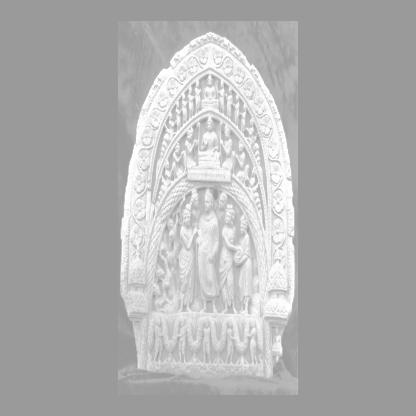buddha-sitting: (201, 117, 219, 162), (204, 74, 216, 100)
buddha-standing: (196, 189, 219, 310)
